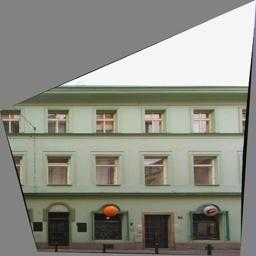building: (0, 86, 256, 250)
